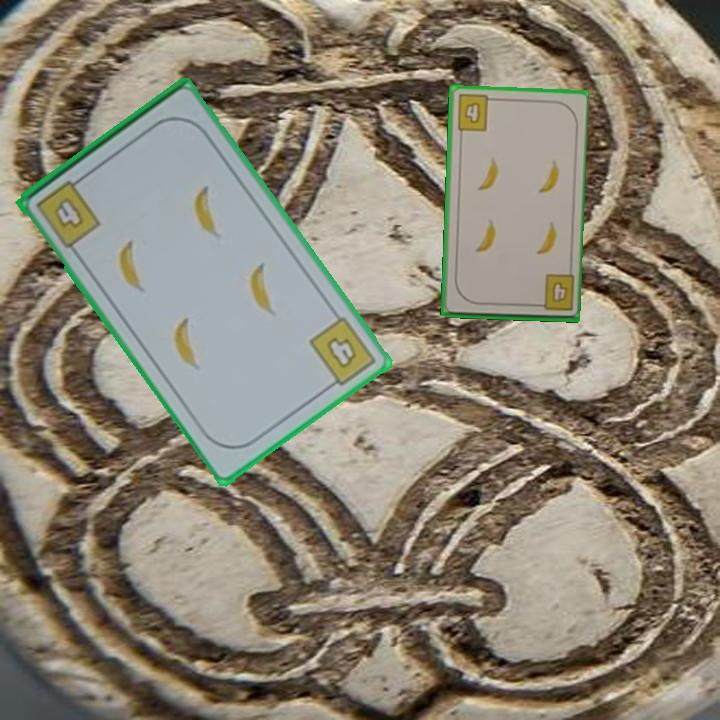4b: (305, 312, 380, 393), (32, 172, 104, 251), (531, 271, 576, 314), (454, 91, 497, 134)
